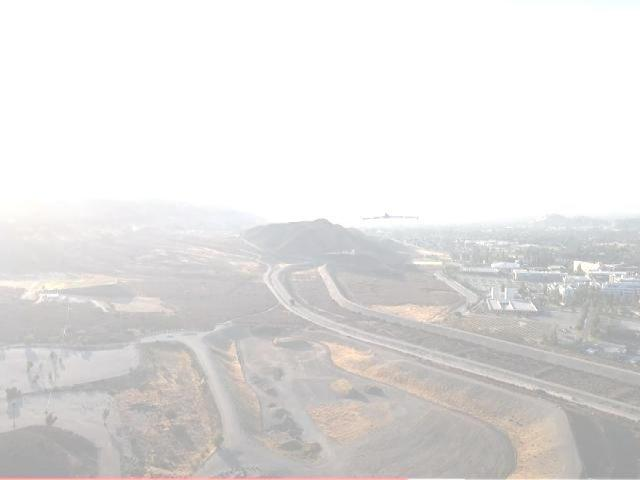iha: (359, 207, 421, 226)
